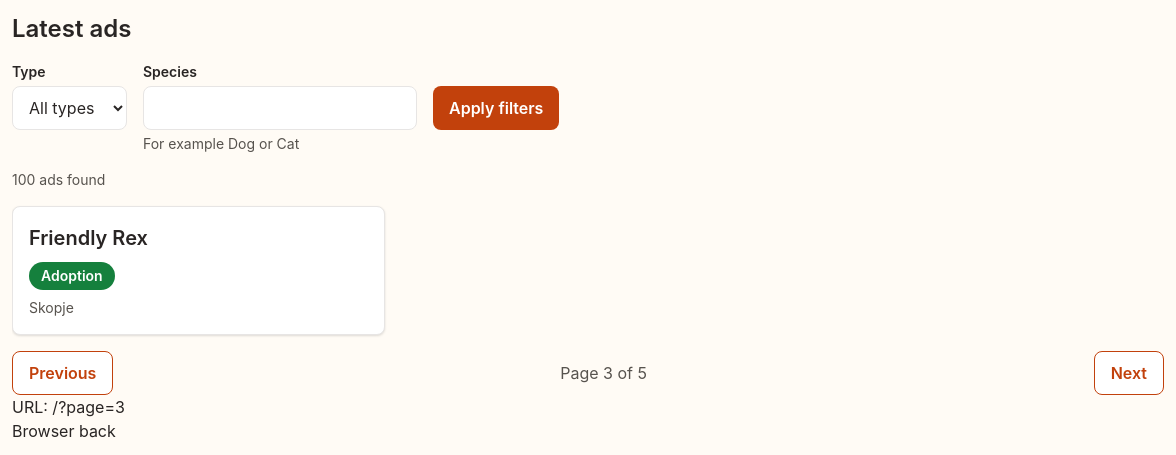
PetAdList › requests and filters › goes back to page 1 when filters are applied on page 3
expect the heading "Friendly Rex" is shown: met, box [29,226,148,250]
Type "Dog" into the field labelled "Species" at [280, 108], box [143,86,417,130]
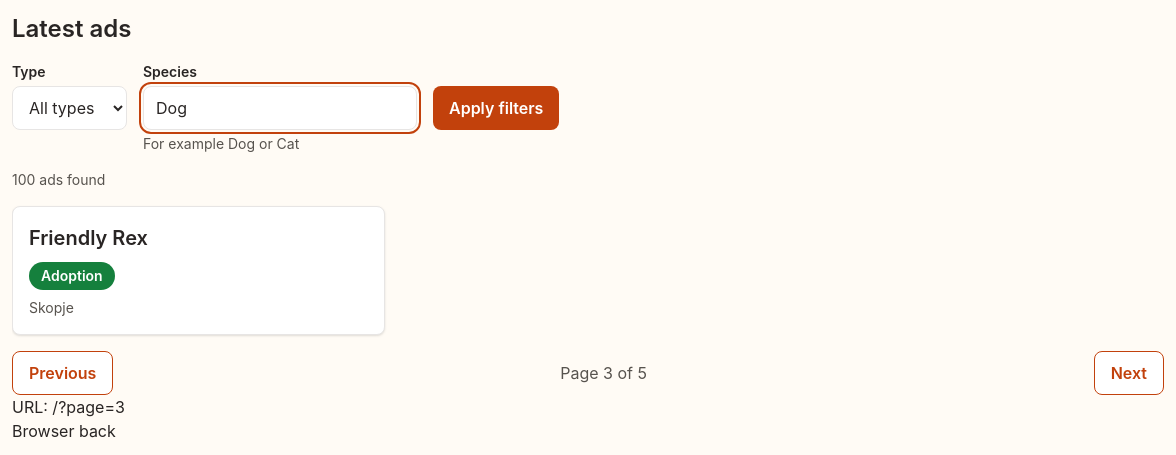
Click the button "Apply filters" at [496, 108], box [433,86,559,130]
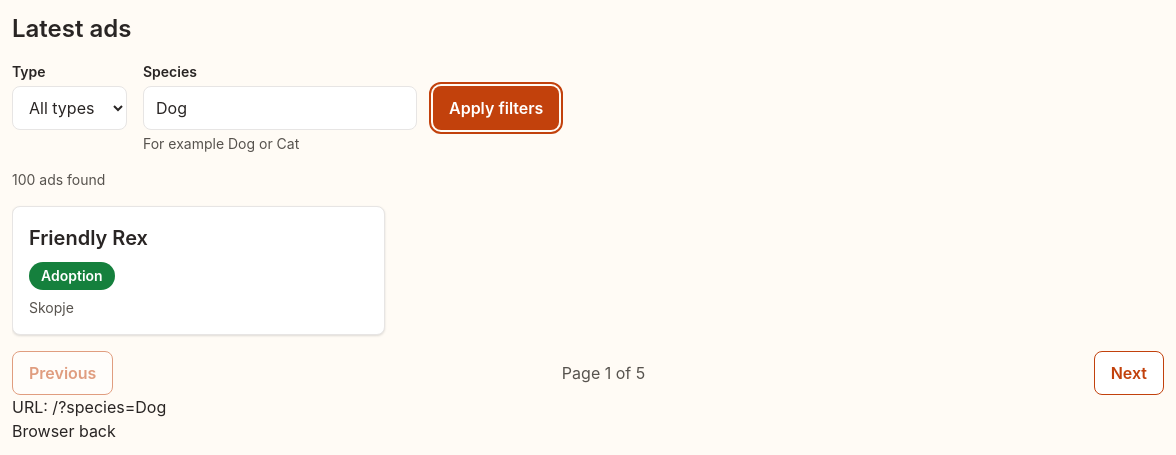
expect the text "URL: /?species=Dog" is shown: met, box [12,397,166,417]
